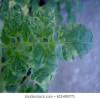Tomato leaf mosaic virus: (59, 21, 95, 63), (27, 43, 57, 91), (29, 3, 56, 40), (2, 5, 26, 41), (7, 48, 31, 78)
